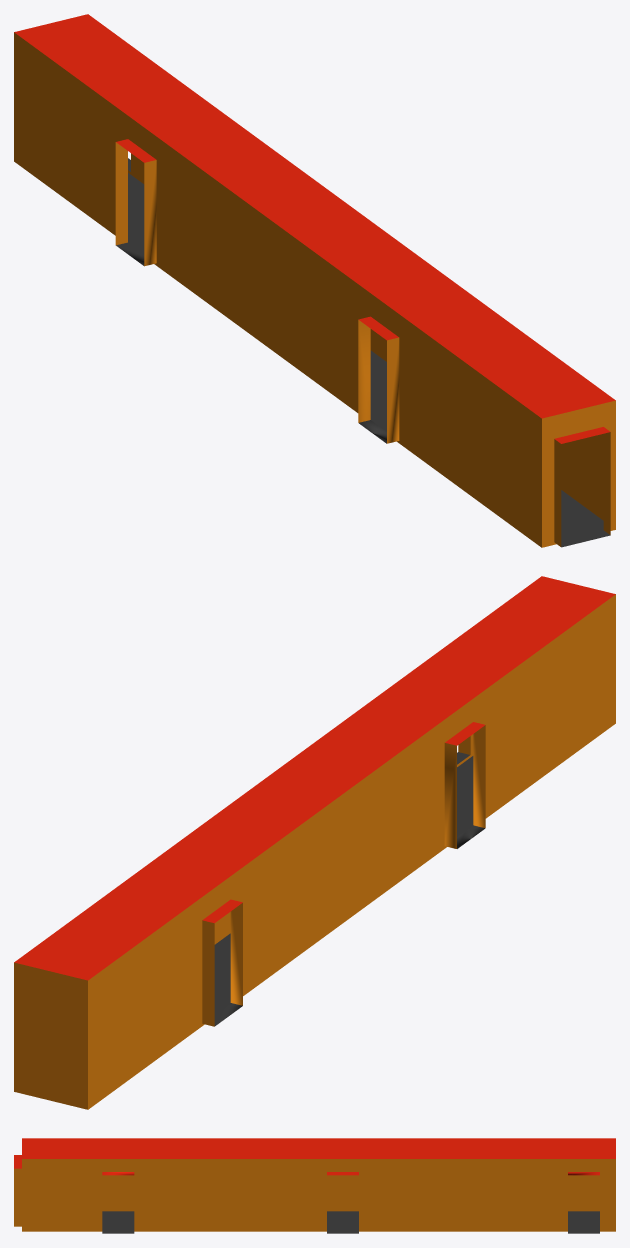
File: Floor2_MainHallMesh.gltf
3 views of the same model, one above another, from view 1: azimuth 30°, elevation 25°; view 2: azimuth 150°, elevation 25°; view 3: azimuth 270°, elevation 25° (orthographic). The views are drawn at different scales.
Visible parts, largest first — view 1: Floor2_MainHallMesh; view 2: Floor2_MainHallMesh; view 3: Floor2_MainHallMesh.
Part boxes in pixels (left/top/right/bottom): Floor2_MainHallMesh: left=14, top=14, right=615, bottom=547; Floor2_MainHallMesh: left=14, top=576, right=615, bottom=1109; Floor2_MainHallMesh: left=14, top=1138, right=615, bottom=1233.
Size of the model in its own units: 4 by 5 by 37.5.
